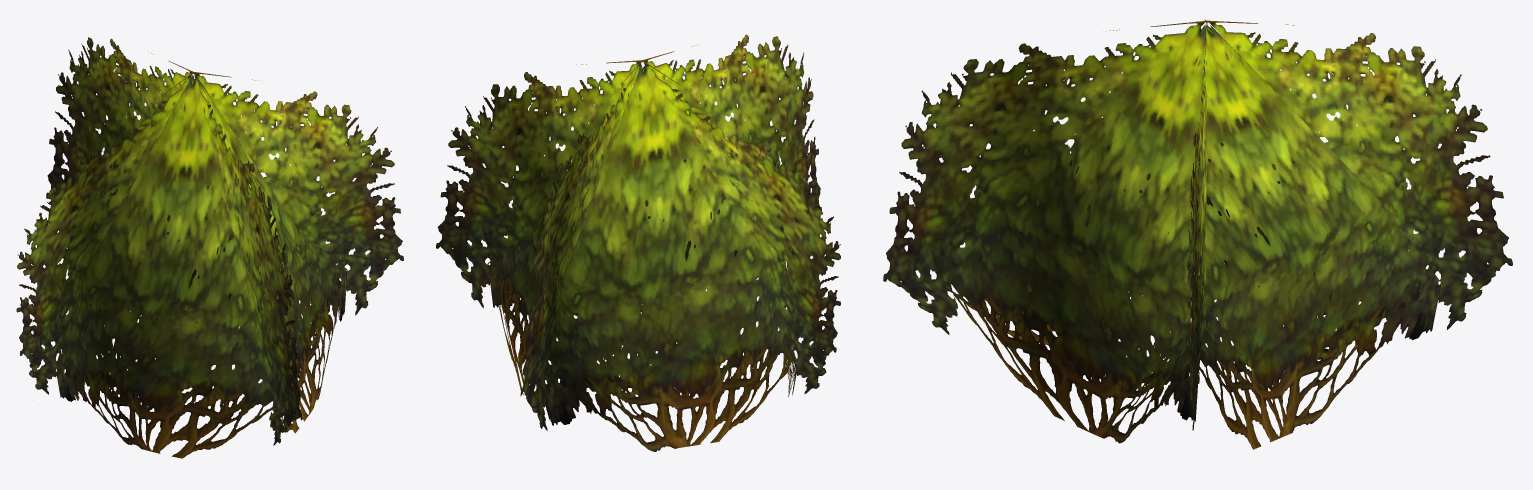
File: elwynnbush06.obj
3 views of the same model, side by side, from view 1: azimuth 30°, elevation 25°; view 2: azimuth 150°, elevation 25°; view 3: azimuth 270°, elevation 25° (orthographic). The views are drawn at different scales.
Visible parts, largest first — view 1: elwynnbush06; view 2: elwynnbush06; view 3: elwynnbush06.
Boxes of the visible parts, x1,y1,x2,y2 form: elwynnbush06: (16, 37, 403, 458); elwynnbush06: (436, 34, 840, 451); elwynnbush06: (883, 19, 1512, 449).
Bounding box in the file's own units: 4.2 × 3.32 × 5.17.
1 material, 1 textured.
